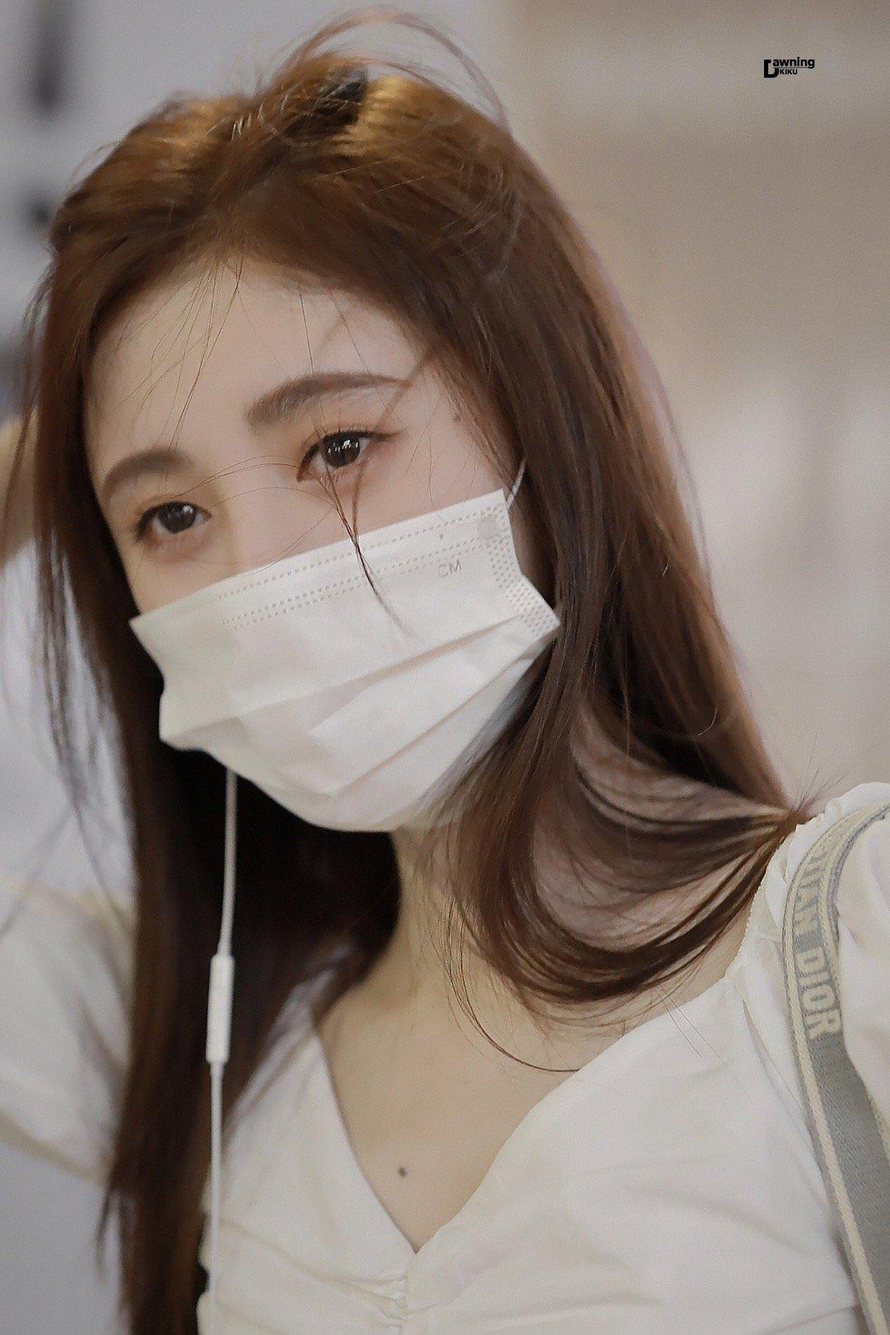OK: (97, 334, 505, 840)
